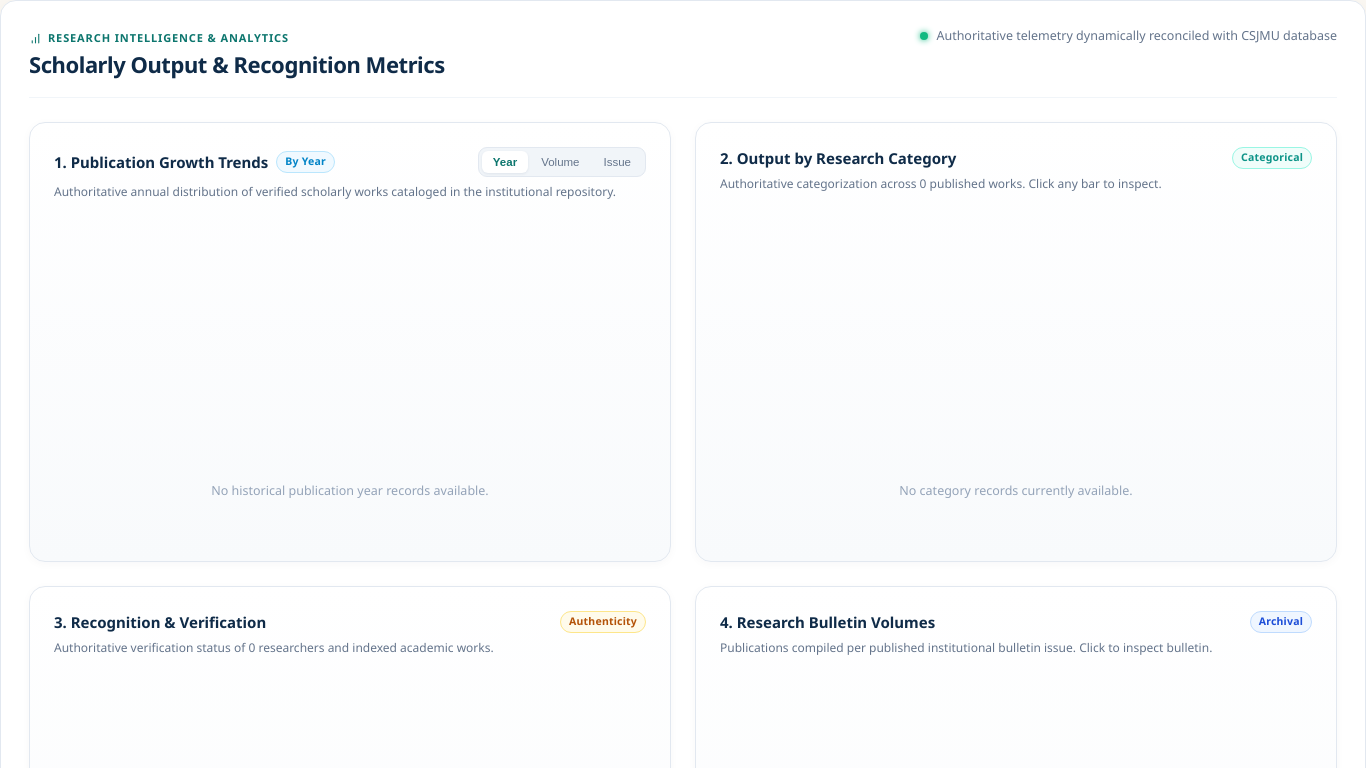
it: Research Intelligence Overview Data Integrity Suite › 11. Empty state messages update accurately when switching dimensions
The width and height of the screenshot is (1366, 768).
Check: the text "No historical publication year records available." is shown, box left=211, top=482, right=489, bottom=499
Volume empty state
Click the button "Volume".
click(560, 162)  # box left=530, top=150, right=590, bottom=173
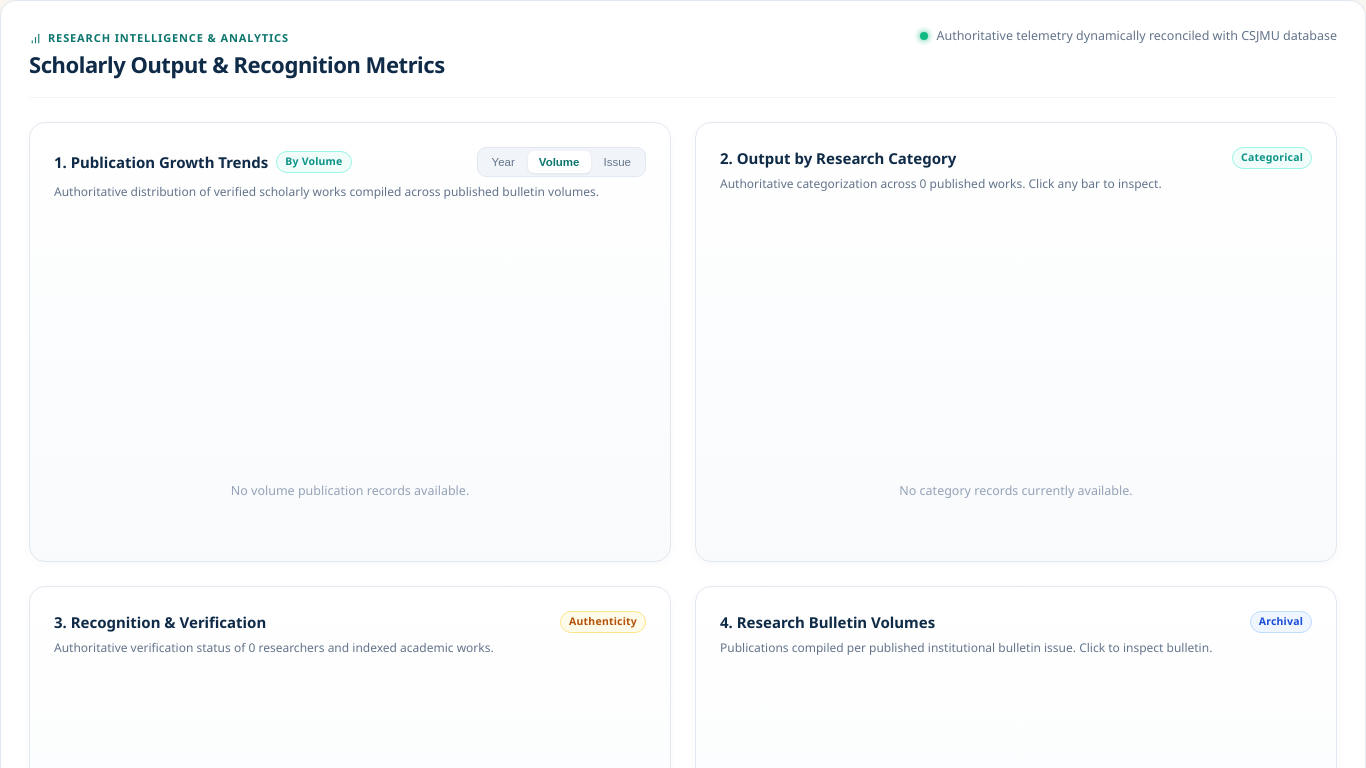
Check: the text "No volume publication records available." is shown, box left=231, top=482, right=469, bottom=499
Issue empty state
Click the button "Issue".
click(617, 162)  # box left=592, top=150, right=642, bottom=173
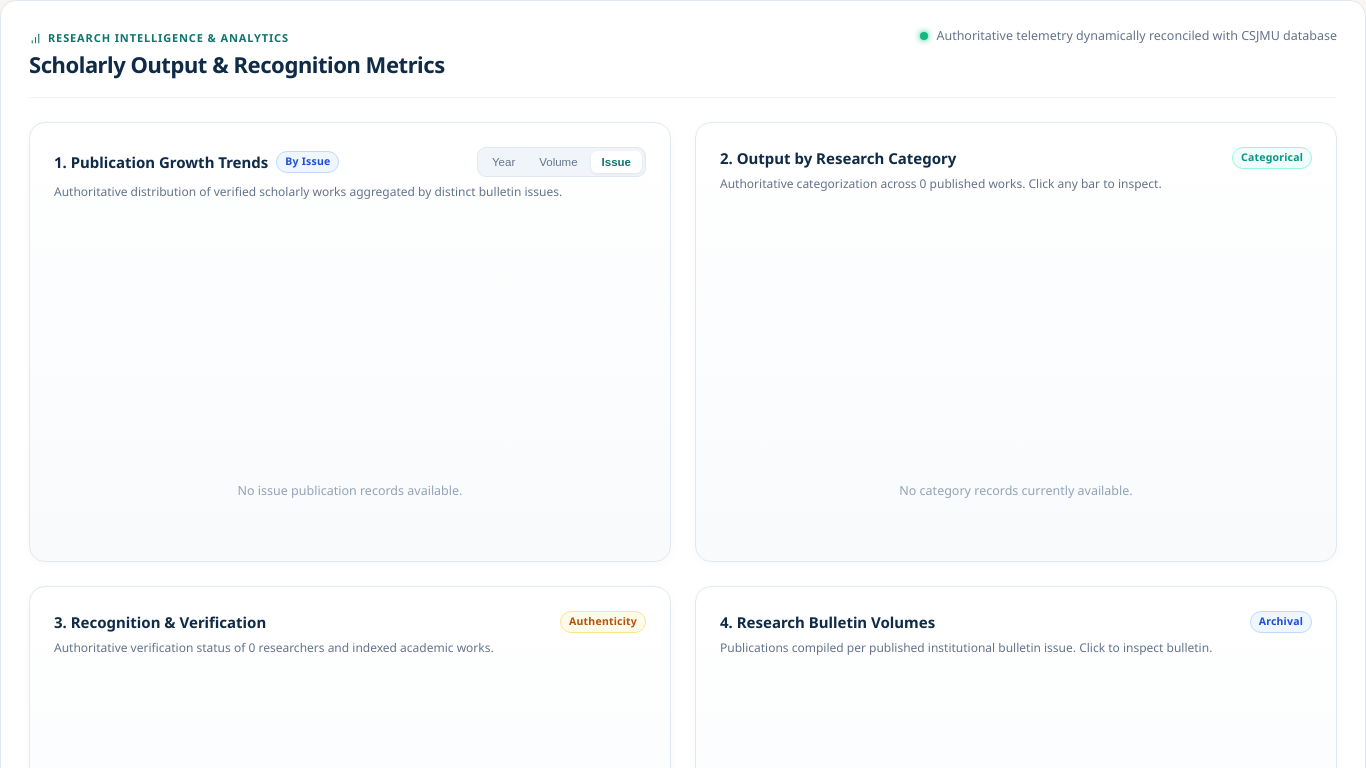
Check: the text "No issue publication records available." is shown, box left=238, top=482, right=462, bottom=499
